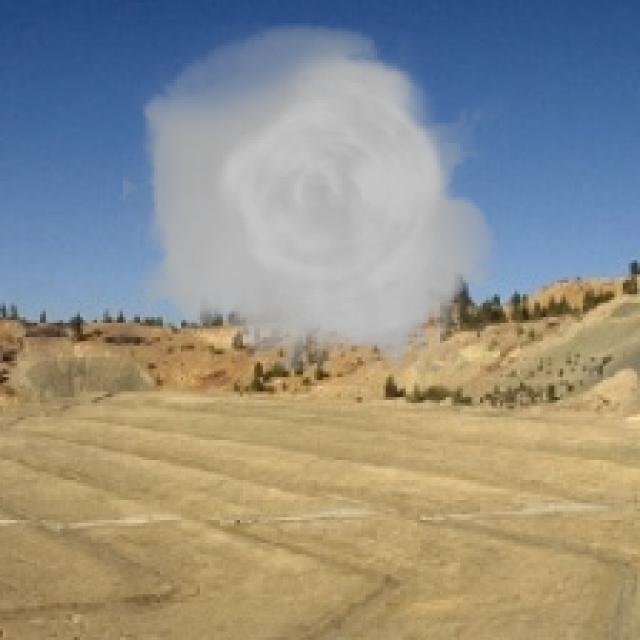Smoke: (122, 22, 508, 372)
